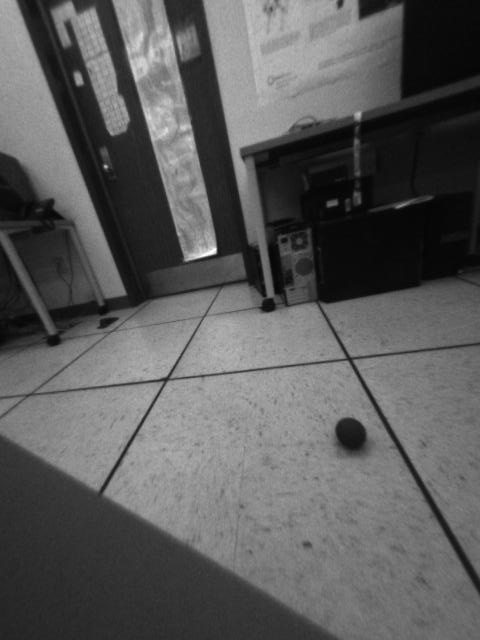dogtoy: (329, 411, 377, 456)
